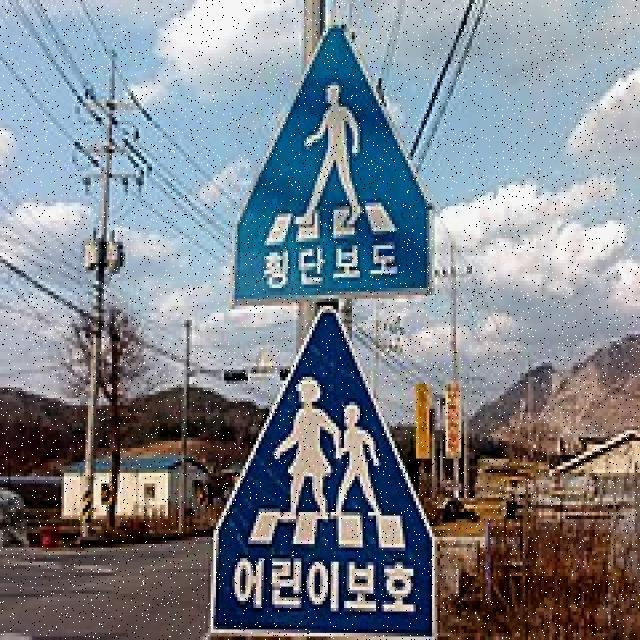Traffic sign: (205, 17, 445, 640)
